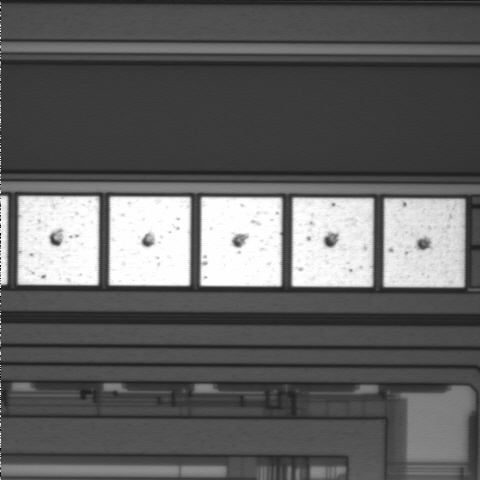pad: (109, 197, 191, 286), (200, 197, 282, 286), (18, 196, 99, 285), (292, 198, 373, 287), (384, 199, 465, 287)
